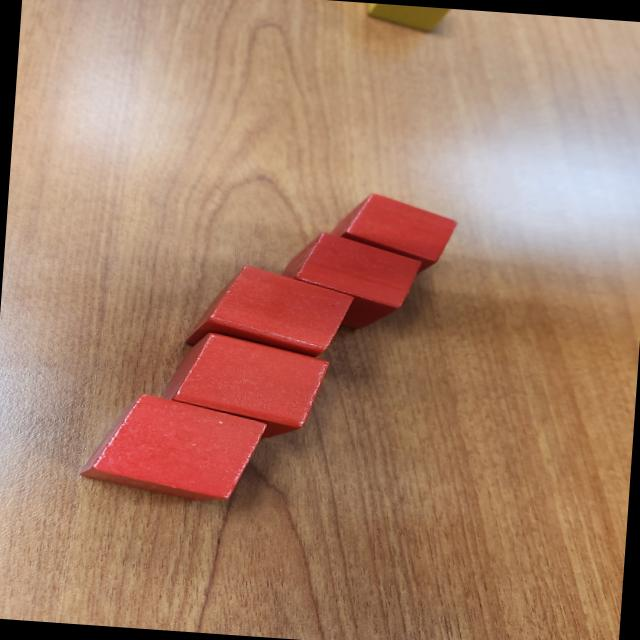red: (74, 389, 270, 506), (156, 328, 331, 444), (184, 260, 356, 358), (274, 228, 424, 334), (331, 190, 461, 274)
yellow: (358, 2, 456, 36)
